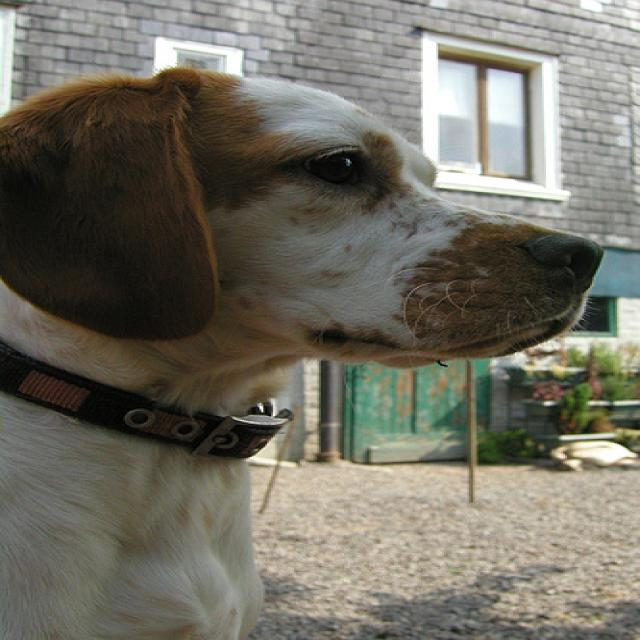dog-beagle: (2, 61, 621, 428)
